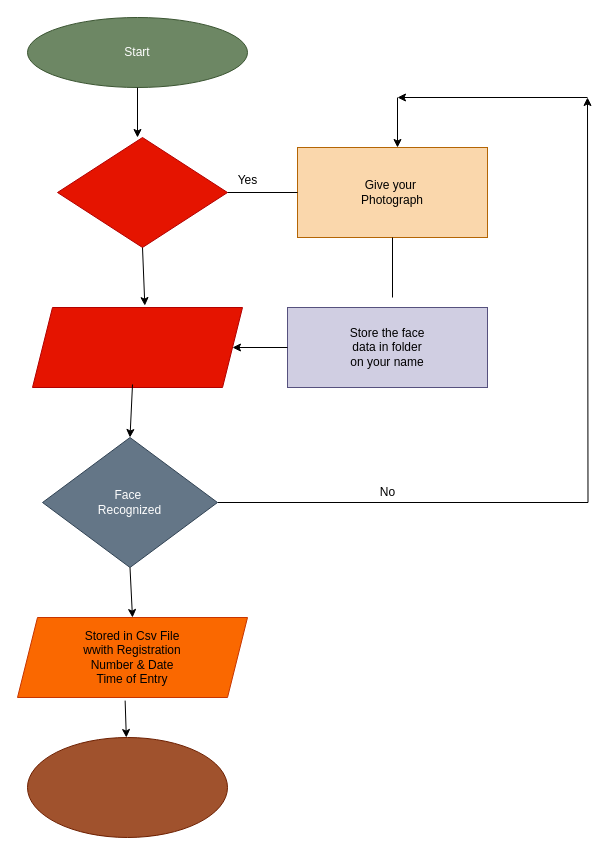
The diagram is 614 pixels wide and 855 high, and some of its shapes have lost their labels. Here are the shapes that lost their labels. From the top down, the centre of each, then its label:
At (x=142, y=192): "New User?".
At (x=137, y=347): "Recognize the face".
At (x=127, y=787): "End".
